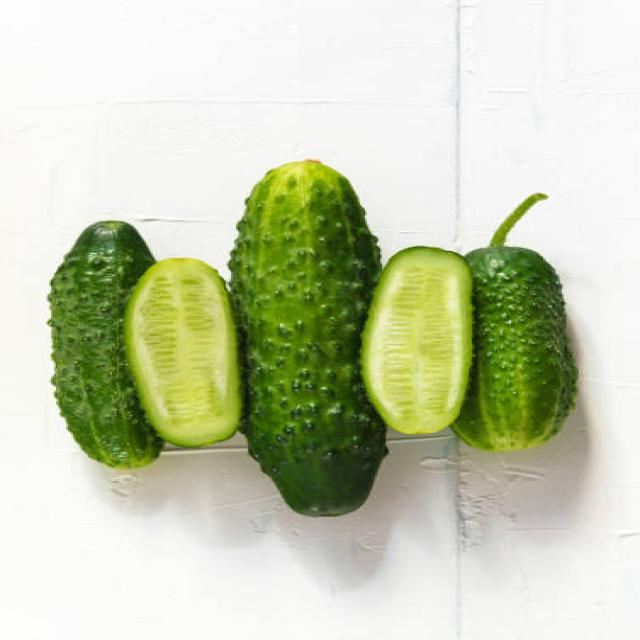cucumber: (223, 157, 388, 518), (49, 218, 159, 470), (457, 248, 582, 454), (123, 258, 249, 446), (362, 244, 474, 434)
